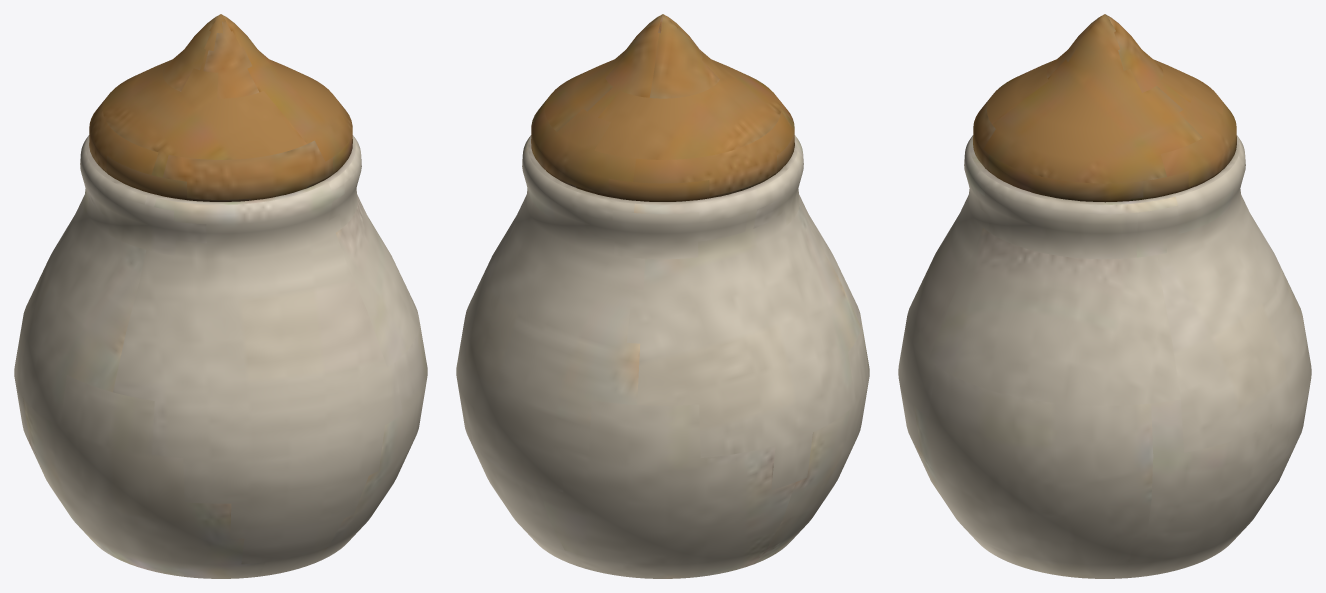
File: theriac.glb
3 views of the same model, side by side, from view 1: azimuth 30°, elevation 25°; view 2: azimuth 150°, elevation 25°; view 3: azimuth 270°, elevation 25° (orthographic).
Visible parts, largest first — view 1: theriac; view 2: theriac; view 3: theriac.
Boxes of the visible parts, x1=… form: theriac: x1=14, y1=14, x2=427, y2=578; theriac: x1=456, y1=14, x2=869, y2=578; theriac: x1=898, y1=14, x2=1311, y2=578.
Bounding box in the file's own units: 0.0621 × 0.0869 × 0.0621.
1 material, 1 textured.
